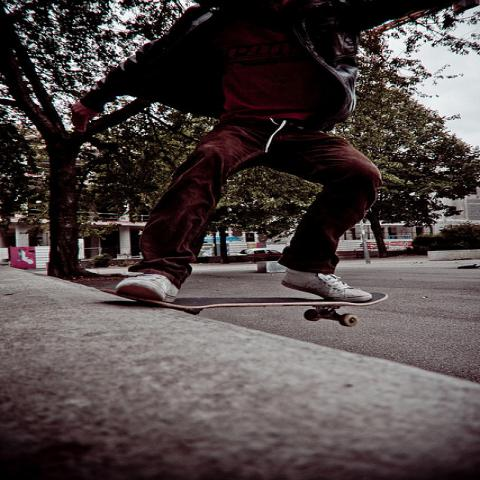car: (236, 248, 281, 255)
